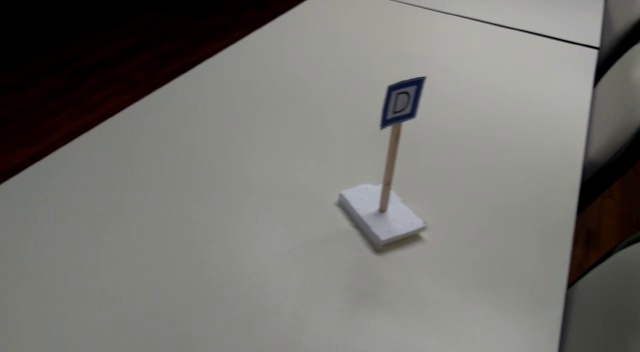durak: (379, 76, 425, 127)
